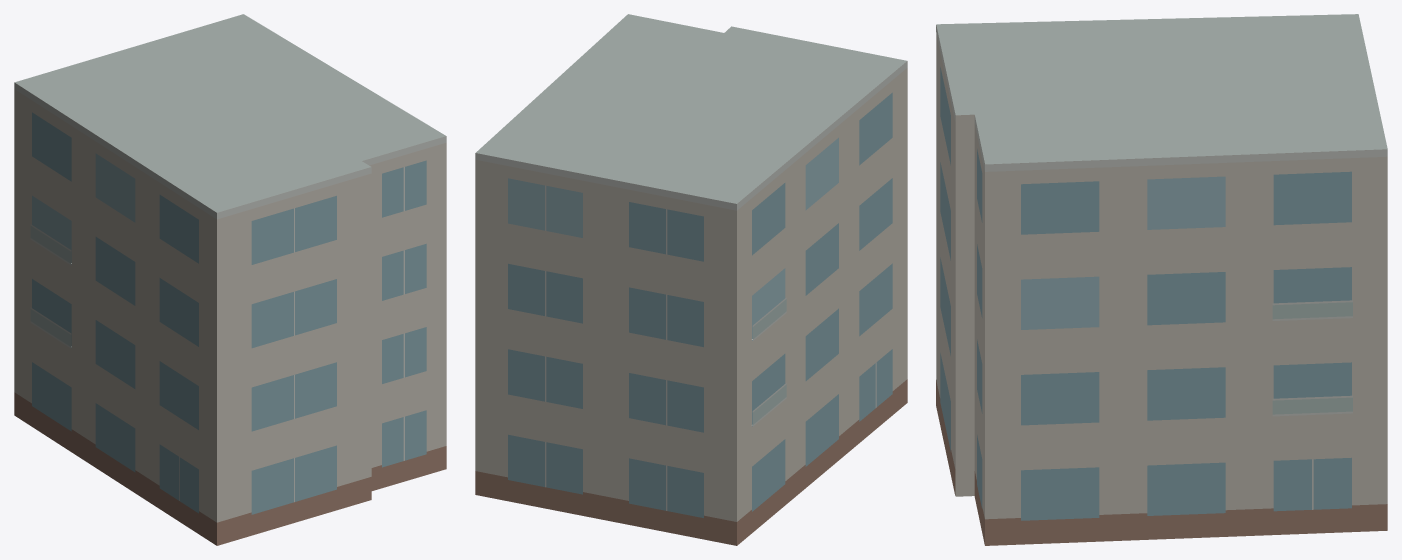
The model's file is survey-upis-32739878.glb.
The picture shows the model from 3 angles, left to right: view 1: azimuth 30°, elevation 25°; view 2: azimuth 150°, elevation 25°; view 3: azimuth 270°, elevation 25°; orthographic projection. The views are drawn at different scales.
Visible parts, largest first — view 1: survey-upis-32739878.tmp; view 2: survey-upis-32739878.tmp; view 3: survey-upis-32739878.tmp.
Boxes of the visible parts, x1,y1,x2,y2 form: survey-upis-32739878.tmp: [14, 14, 446, 545]; survey-upis-32739878.tmp: [475, 14, 907, 545]; survey-upis-32739878.tmp: [936, 14, 1387, 545].
Bounding box in the file's own units: 10.5 × 12.4 × 13.32.
